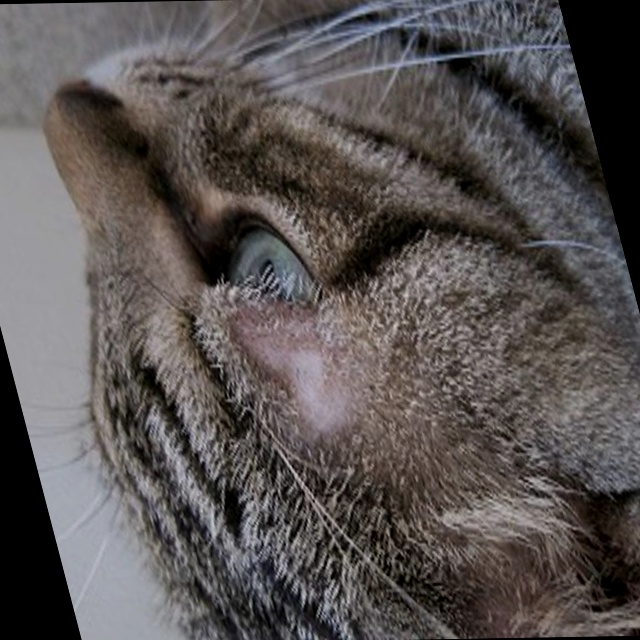hairloss: (254, 334, 352, 443)
